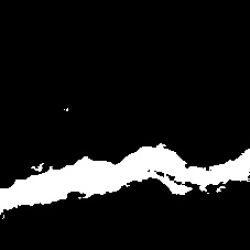crack: (2, 144, 246, 217)
pinhole: (29, 160, 46, 170), (61, 105, 74, 114)
